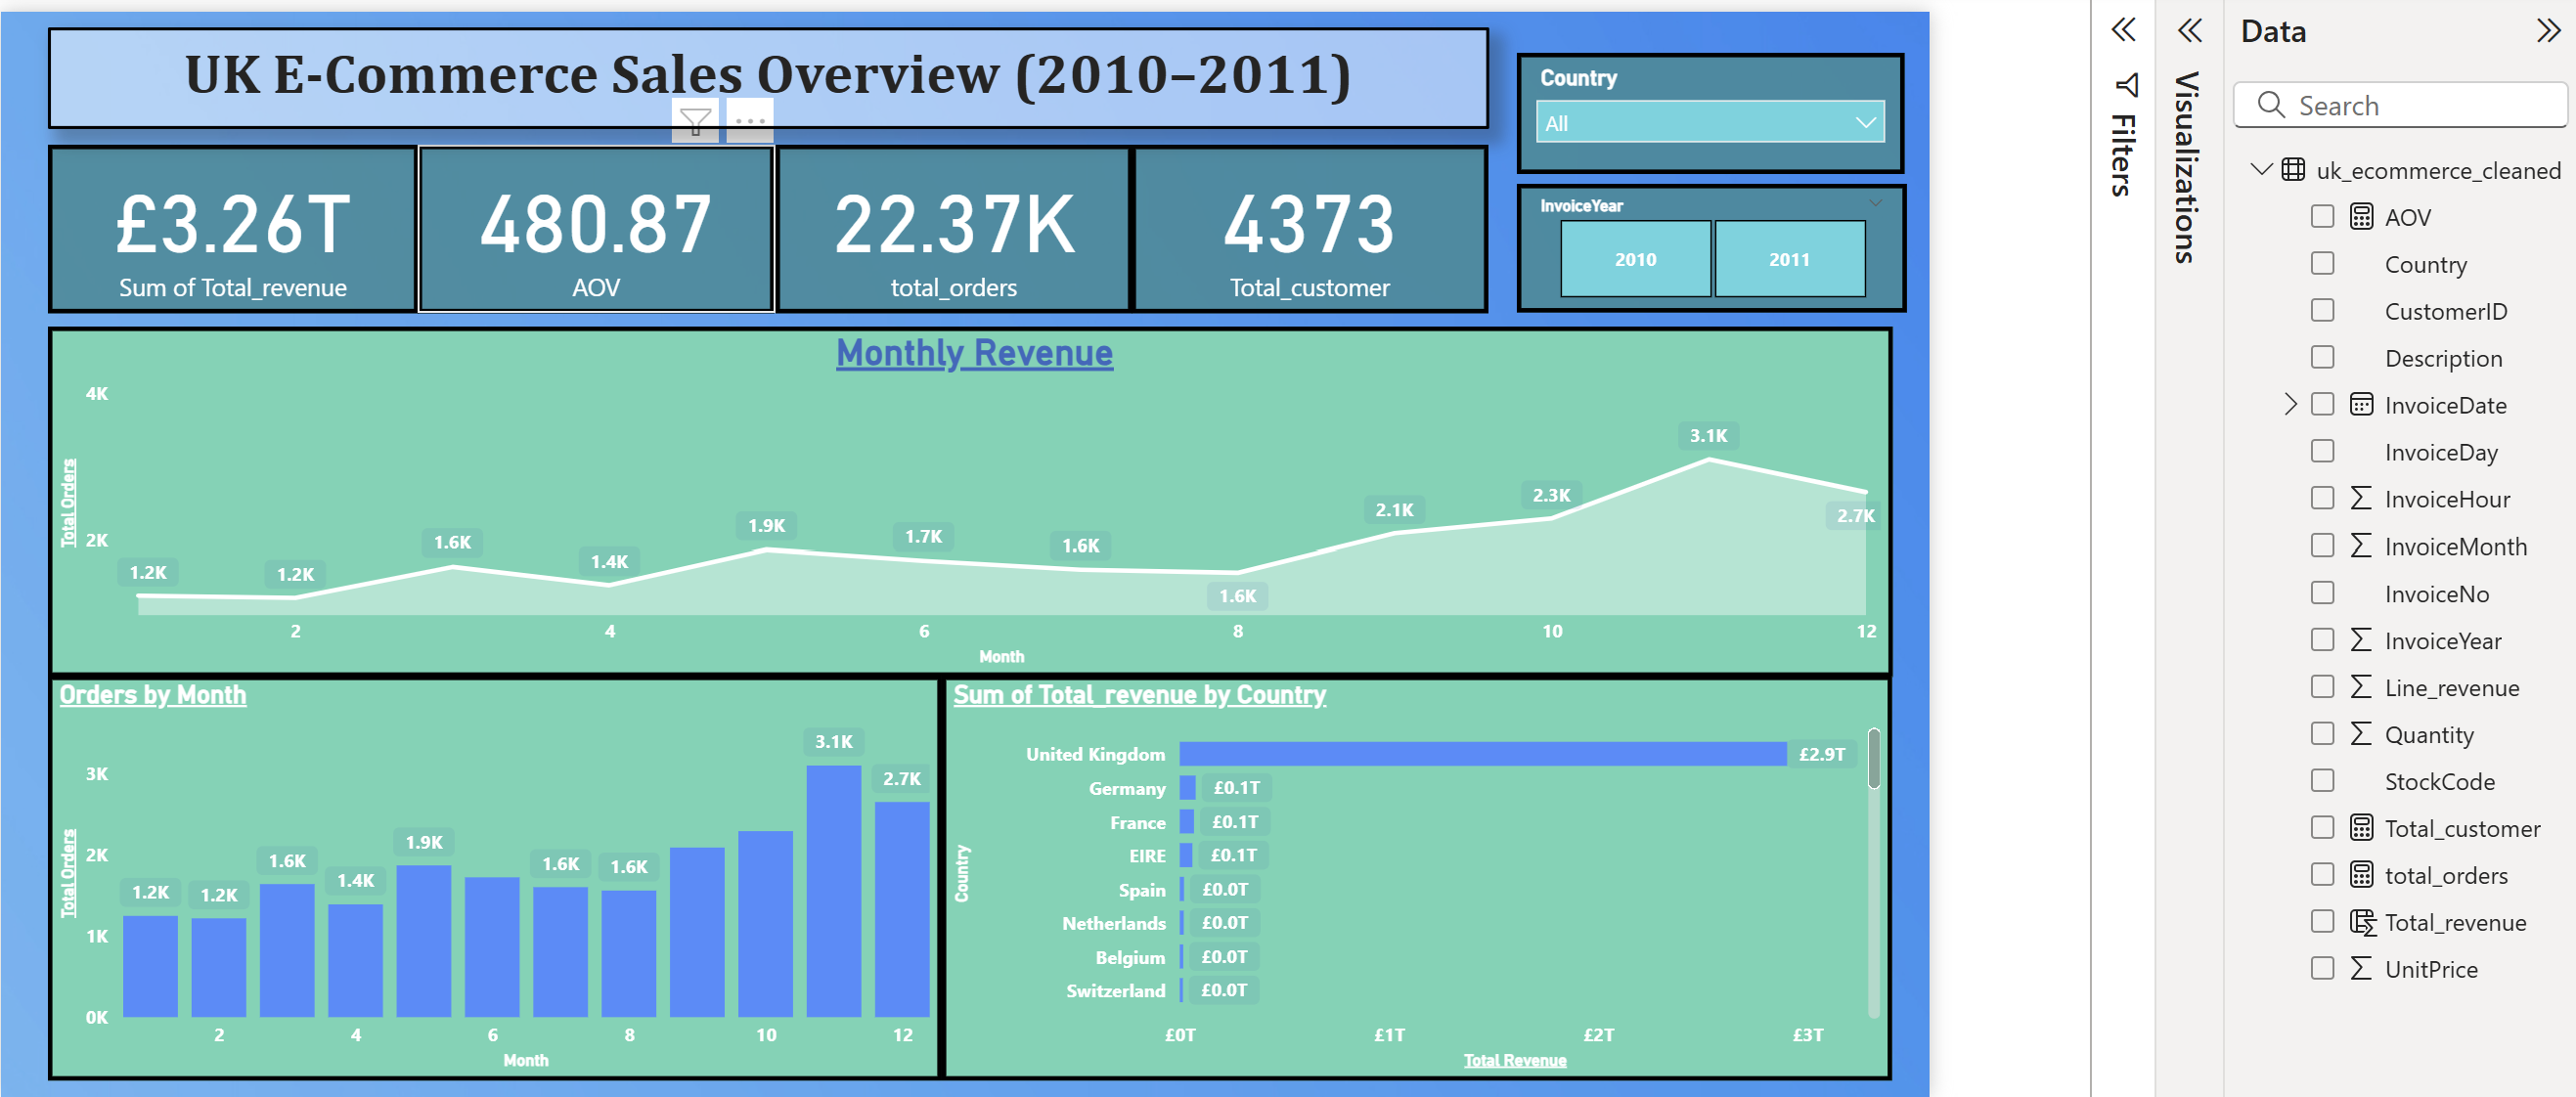

This screenshot's page, from the dashboard's own definition file:
{"tool":"powerbi","page":{"name":"Page 1","canvas":[1280,720],"ordinal":0},"visuals":[{"type":"card","fields":{"Values":["Sum(uk_ecommerce_cleaned.Total_revenue)"]},"box":[30.6,88,246.1,112.2],"z":0},{"type":"card","fields":{"Values":["uk_ecommerce_cleaned.total_orders"]},"box":[513.8,88,237.1,112.2],"z":1000},{"type":"card","fields":{"Values":["uk_ecommerce_cleaned.Total_customer"]},"box":[750.9,88,237.1,112.2],"z":2000},{"type":"card","fields":{"Values":["uk_ecommerce_cleaned.AOV"]},"box":[276.7,88,237.1,112.2],"z":3000},{"type":"lineChart","title":"Monthly Revenue","fields":{"Y":["uk_ecommerce_cleaned.total_orders"],"Category":["uk_ecommerce_cleaned.InvoiceMonth"]},"box":[30.6,209.1,1225.2,232],"z":4000},{"type":"columnChart","title":"Orders by Month","fields":{"Y":["uk_ecommerce_cleaned.total_orders"],"Category":["uk_ecommerce_cleaned.InvoiceMonth"]},"box":[31.2,440.3,593.5,268.8],"z":5000},{"type":"barChart","fields":{"Category":["uk_ecommerce_cleaned.Country"],"Y":["Sum(uk_ecommerce_cleaned.Total_revenue)"]},"box":[624.7,440.3,631.2,268.8],"z":6000},{"type":"slicer","fields":{"Values":["uk_ecommerce_cleaned.InvoiceYear"]},"box":[1005.9,114.7,258.8,85.4],"z":7000},{"type":"slicer","fields":{"Values":["uk_ecommerce_cleaned.Country"]},"box":[1005.9,26.8,257.5,80.3],"z":8000},{"type":"textbox","box":[31.2,10.4,957.1,67.5],"z":8001}]}

Visuals, with their boxes in screenshot pixels (x1, y1, x2, y2):
card - Sum(uk_ecommerce_cleaned.Total_revenue): [39, 139, 410, 308]
card - uk_ecommerce_cleaned.total_orders: [768, 139, 1125, 308]
card - uk_ecommerce_cleaned.Total_customer: [1125, 139, 1482, 308]
card - uk_ecommerce_cleaned.AOV: [410, 139, 768, 308]
"Monthly Revenue" lineChart: [39, 322, 1886, 672]
"Orders by Month" columnChart: [40, 670, 935, 1075]
barChart - uk_ecommerce_cleaned.Country x Sum(uk_ecommerce_cleaned.Total_revenue): [935, 670, 1886, 1075]
slicer - uk_ecommerce_cleaned.InvoiceYear: [1509, 180, 1899, 308]
slicer - uk_ecommerce_cleaned.Country: [1509, 47, 1897, 168]
textbox: [40, 22, 1483, 124]
